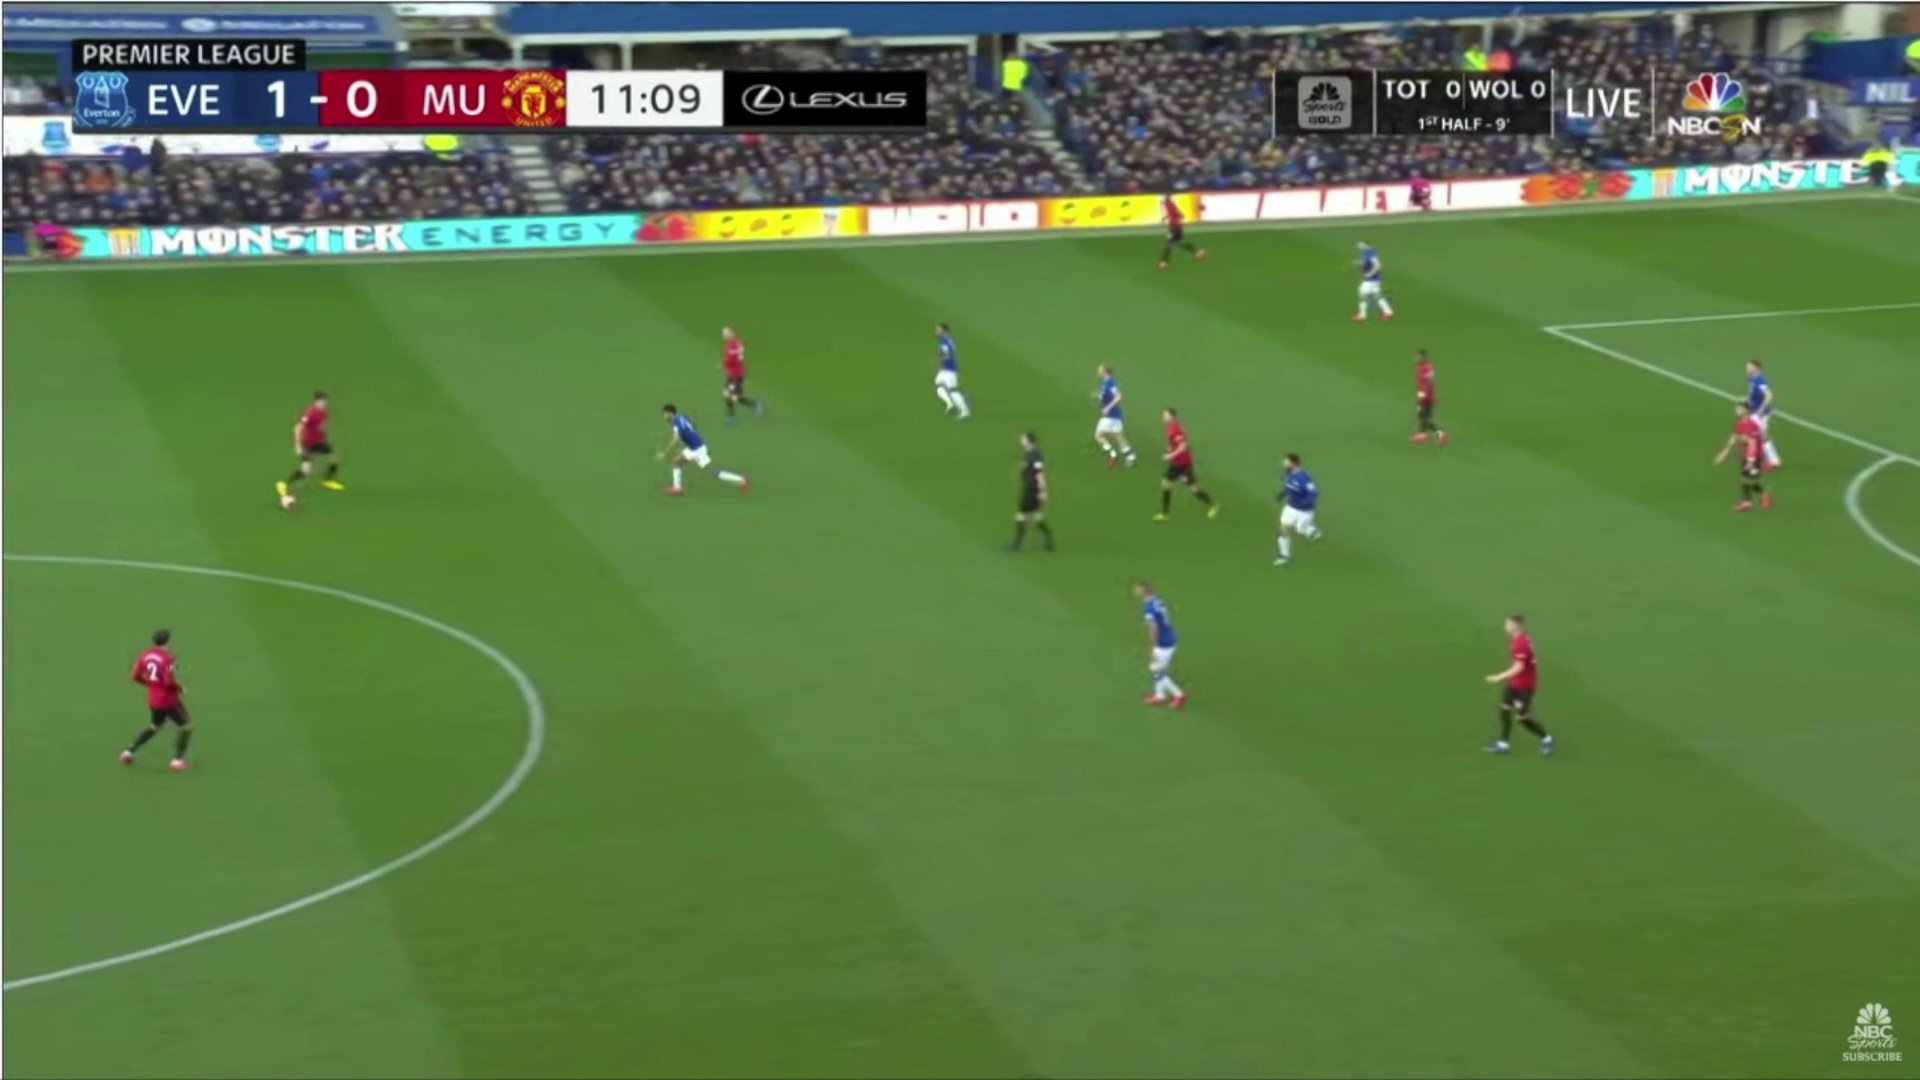ball: (274, 488, 302, 515)
player: (114, 617, 214, 775), (1112, 558, 1210, 713), (1472, 610, 1577, 750), (641, 394, 747, 500), (1145, 398, 1224, 535), (1260, 446, 1343, 575), (697, 312, 789, 425), (1397, 340, 1468, 458), (283, 375, 352, 494), (1077, 350, 1141, 479), (912, 313, 983, 429), (1727, 342, 1789, 462), (1343, 229, 1412, 331), (1712, 400, 1774, 512), (1147, 183, 1216, 271)
